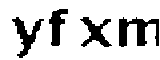f: (46, 6, 71, 50)
m: (115, 13, 160, 51)
x: (77, 14, 112, 52)
y: (8, 14, 45, 60)
